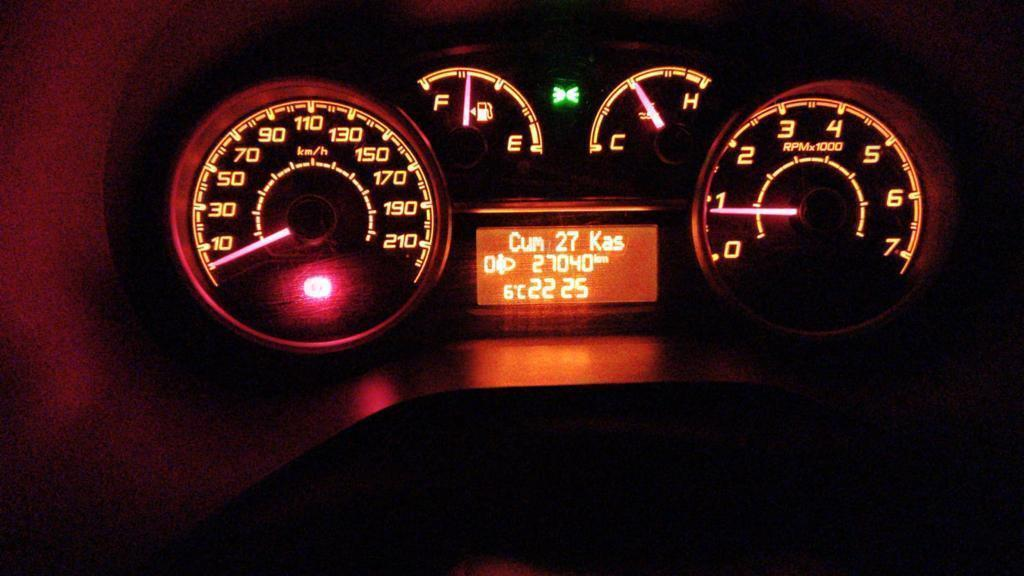0: (581, 253, 593, 272), (557, 253, 568, 272), (483, 255, 495, 272)
2: (541, 277, 556, 299), (527, 277, 541, 299), (560, 277, 574, 298), (554, 230, 567, 252), (532, 254, 544, 272)
4: (569, 254, 581, 272)
5: (575, 277, 588, 298)
6: (503, 284, 514, 299)
7: (566, 230, 578, 251), (546, 253, 556, 272)
X: (508, 231, 520, 252), (589, 230, 601, 251), (520, 236, 532, 252), (613, 234, 625, 250), (532, 236, 544, 251), (601, 235, 612, 250), (517, 283, 526, 299), (599, 255, 608, 263), (593, 253, 599, 263)
odometer: (472, 222, 662, 304)
